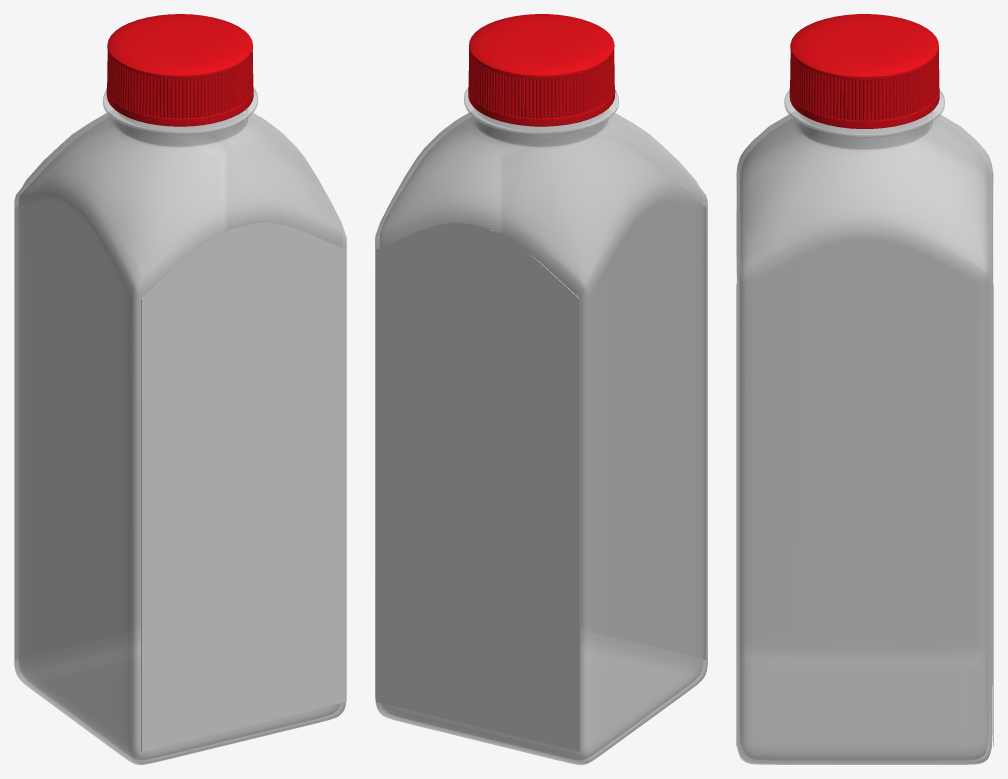
The model's file is Soft drinks bottle.glb.
3 views of the same model, side by side, from view 1: azimuth 30°, elevation 25°; view 2: azimuth 150°, elevation 25°; view 3: azimuth 270°, elevation 25° (orthographic). The views are drawn at different scales.
Visible parts, largest first — view 1: Plane, Bottle_BottlePlastic_0.001, ManiPiece_Bottle2CapArnold_0, pCube117_Bottle2CapArnold_0; view 2: Plane, Bottle_BottlePlastic_0.001, ManiPiece_Bottle2CapArnold_0, pCube117_Bottle2CapArnold_0; view 3: Bottle_BottlePlastic_0.001, ManiPiece_Bottle2CapArnold_0, pCube117_Bottle2CapArnold_0, Plane.
Boxes of the visible parts, x1,y1,x2,y2 form: Plane: (16,205,345,751); Bottle_BottlePlastic_0.001: (14,88,346,764); ManiPiece_Bottle2CapArnold_0: (106,14,253,126); pCube117_Bottle2CapArnold_0: (107,51,253,118); Plane: (376,206,705,751); Bottle_BottlePlastic_0.001: (375,88,707,764); ManiPiece_Bottle2CapArnold_0: (468,14,615,126); pCube117_Bottle2CapArnold_0: (468,50,614,118); Bottle_BottlePlastic_0.001: (736,90,992,764); ManiPiece_Bottle2CapArnold_0: (789,14,939,128); pCube117_Bottle2CapArnold_0: (790,51,939,121); Plane: (736,173,993,746).
Size of the model in its own units: 6.77 by 19.75 by 6.8.
